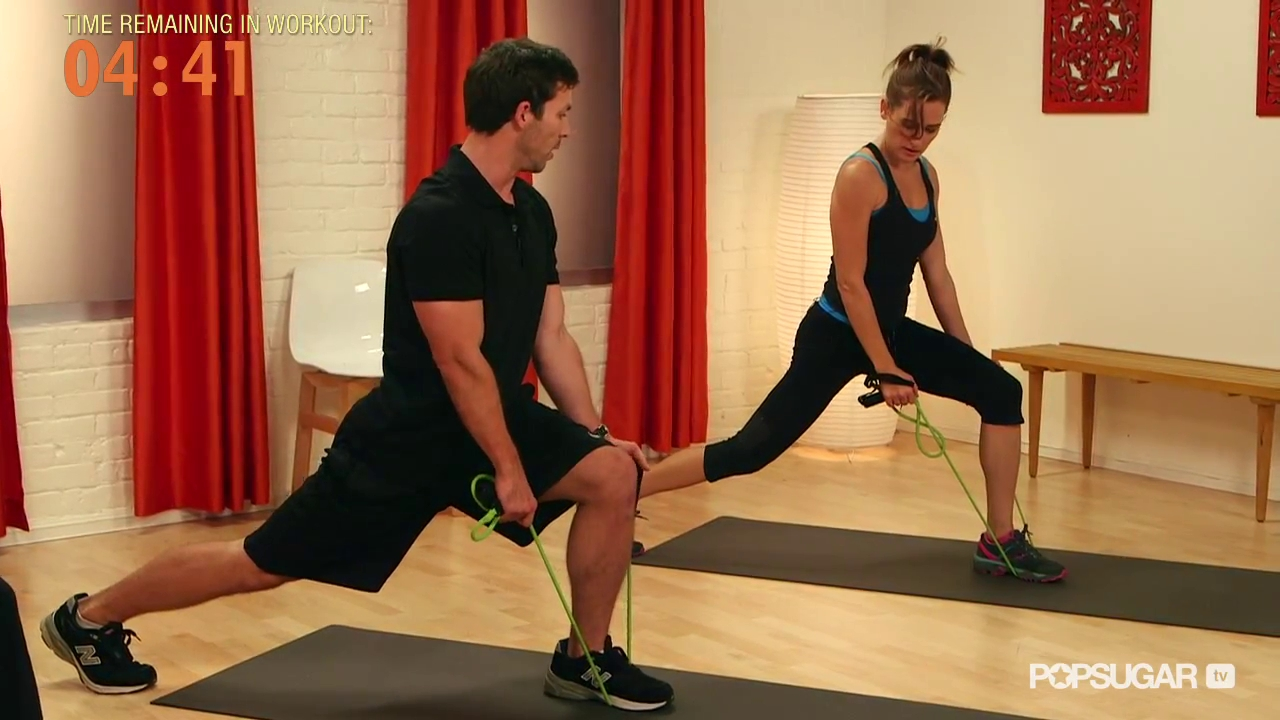person: (39, 37, 675, 714), (640, 43, 1069, 584)
